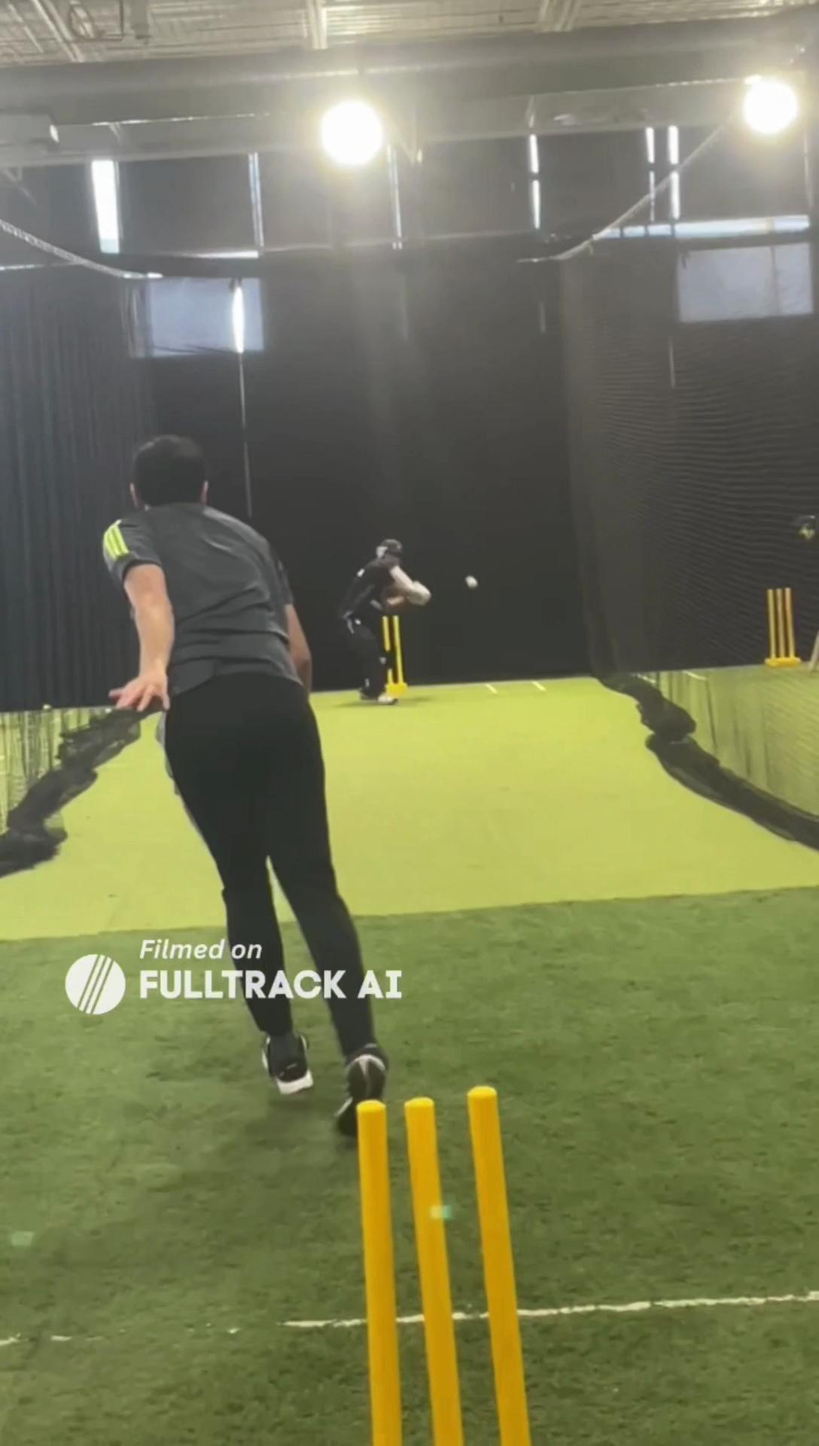ball: (462, 574, 483, 591)
